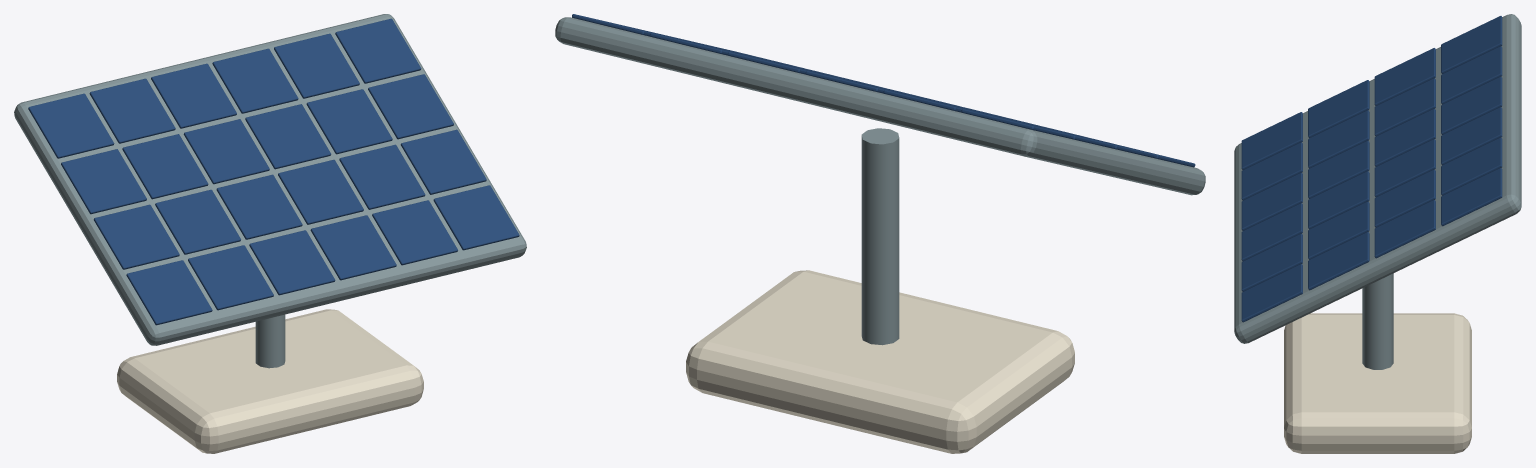
The model's file is solar-panel.glb.
The picture shows the model from 3 angles, left to right: view 1: azimuth 30°, elevation 25°; view 2: azimuth 150°, elevation 25°; view 3: azimuth 270°, elevation 25°; orthographic projection. The views are drawn at different scales.
Visible parts, largest first — view 1: solar-panel__solar, solar-panel__steel, solar-panel__ivory; view 2: solar-panel__ivory, solar-panel__steel, solar-panel__solar; view 3: solar-panel__solar, solar-panel__ivory, solar-panel__steel.
Boxes of the visible parts, bbox=[...] form: solar-panel__solar: bbox=[28, 18, 519, 325]; solar-panel__steel: bbox=[14, 14, 526, 368]; solar-panel__ivory: bbox=[117, 309, 423, 453]; solar-panel__ivory: bbox=[686, 270, 1074, 453]; solar-panel__steel: bbox=[555, 17, 1205, 345]; solar-panel__solar: bbox=[572, 14, 1195, 167]; solar-panel__solar: bbox=[1241, 16, 1502, 322]; solar-panel__ivory: bbox=[1284, 313, 1471, 453]; solar-panel__steel: bbox=[1234, 14, 1521, 369].
Size of the model in its own units: 2 by 1.49 by 1.3.
